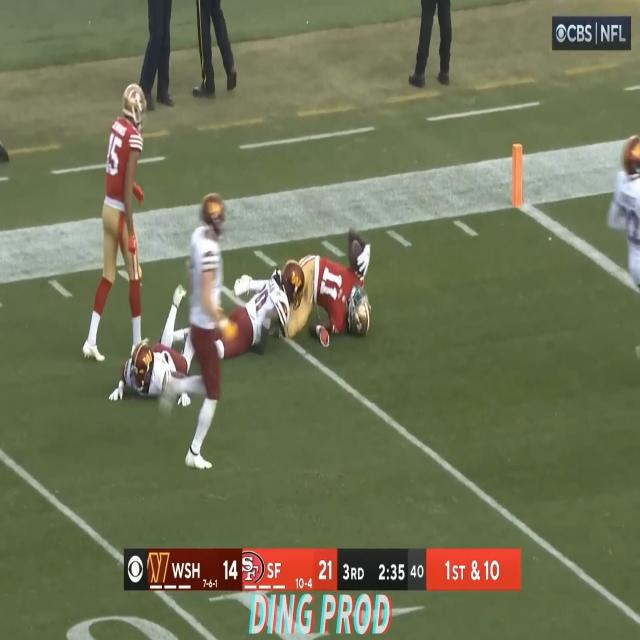football: (348, 236, 364, 271)
players: (90, 72, 151, 374), (188, 194, 230, 459), (294, 235, 372, 354), (211, 263, 296, 362), (116, 295, 191, 398)
